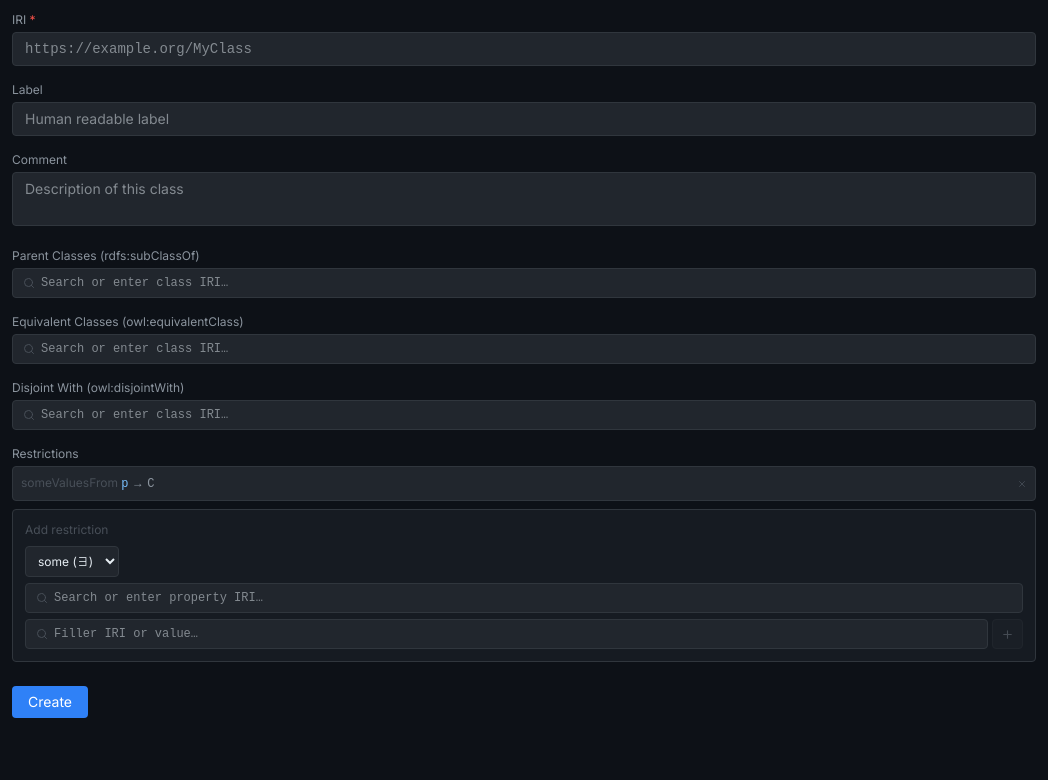
ConceptForm — RestrictionEditor › removes a restriction by clicking its × button
Expected: the text "someValuesFrom" is shown, top-left (21, 475), bottom-right (118, 490)
the × button is in the restriction row
Click the button without text in the row of "someValuesFrom". click: (1022, 484)
box: top-left (1017, 478), bottom-right (1027, 488)
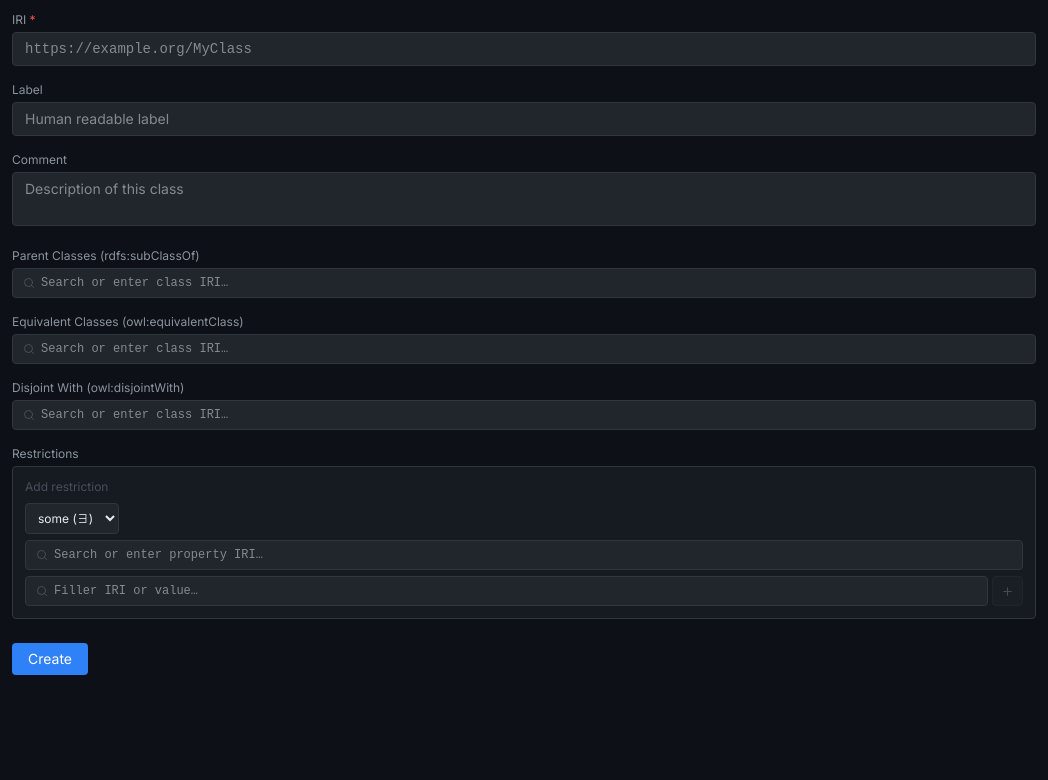
Now the text "someValuesFrom" is gone
